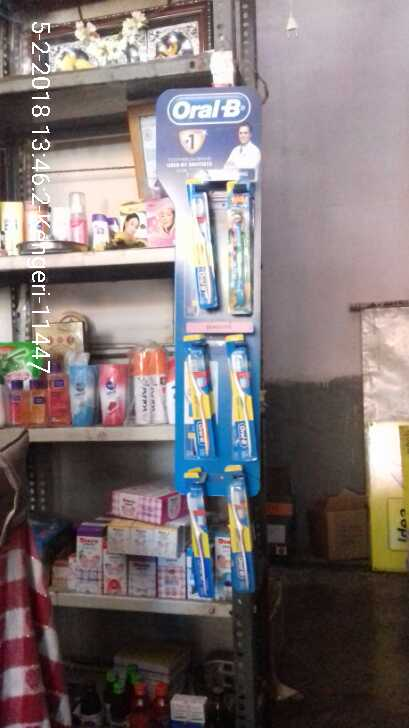oralb: (224, 333, 258, 460), (182, 469, 216, 596), (223, 465, 256, 592), (186, 176, 217, 307), (183, 335, 214, 459), (227, 183, 255, 315)
